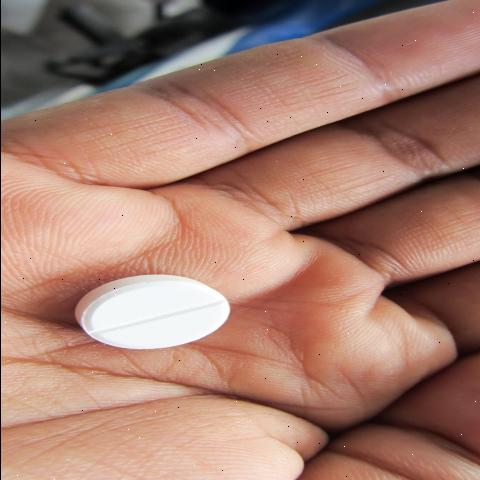Pill: (46, 248, 255, 358)
